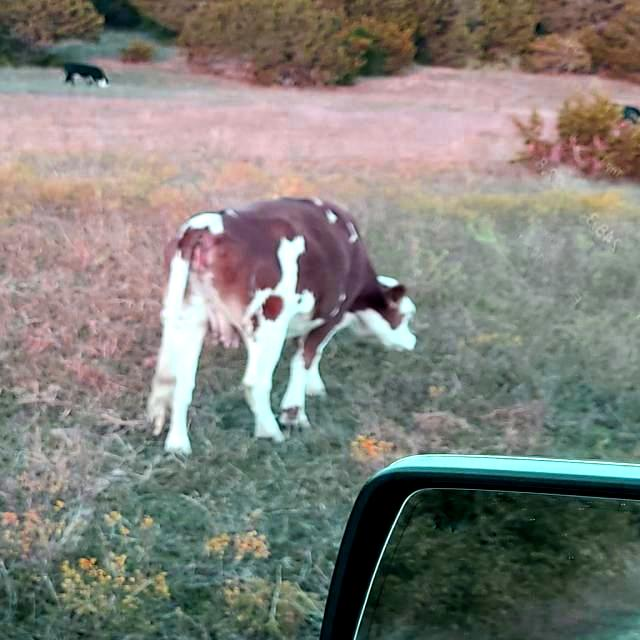COW: (148, 198, 415, 454)
